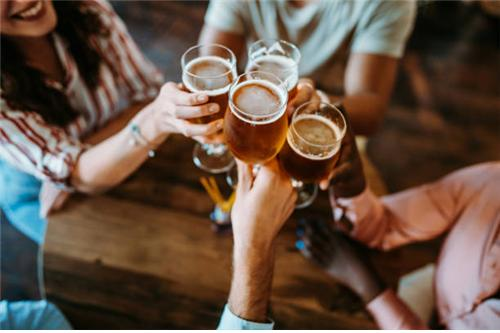alcohol: (180, 44, 235, 172), (283, 99, 345, 211), (234, 72, 288, 183), (247, 37, 300, 99)
